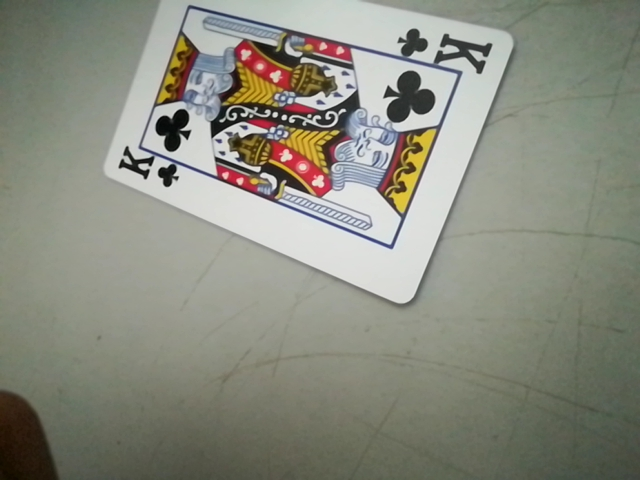mh k: (390, 23, 502, 68), (115, 149, 181, 191)
